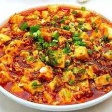mapodoufu: (1, 5, 112, 106)
